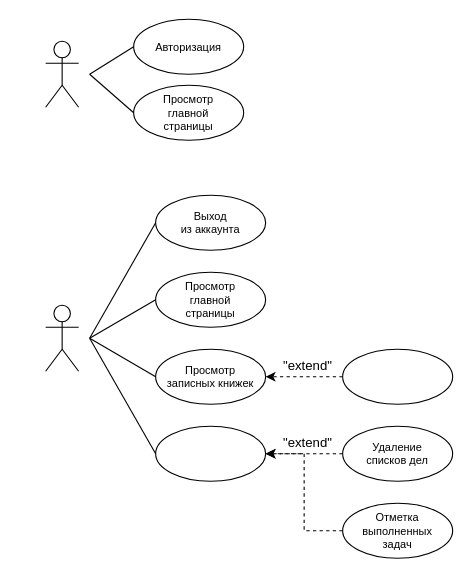
Image size: 472x578. Some labels were removed from this diagram. The shapes that lost their labels are listed below. From the top down, each one's box as (x1, y1, x2, y2) in pixels, then its label:
(45, 40, 79, 107): Гость
(45, 304, 79, 371): Пользователь
(342, 348, 453, 404): Удаление записных книжек
(155, 425, 266, 481): Просмотр списков дел
